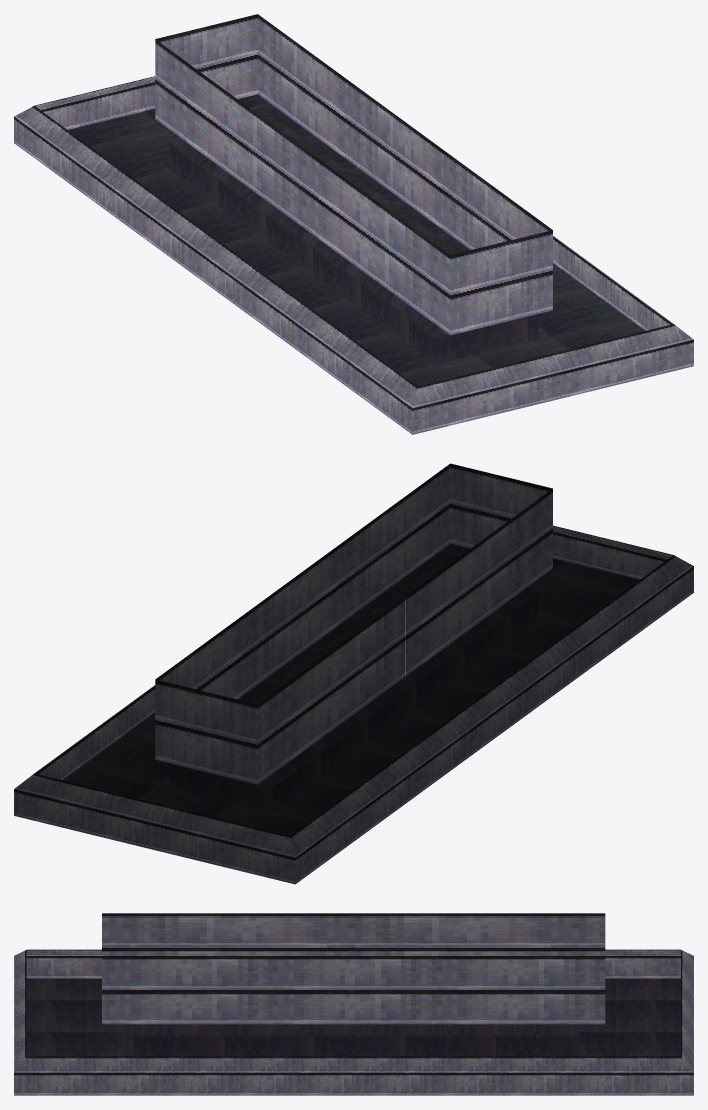
The model's file is Pdoor_azt_deskZ.obj.
3 views of the same model, one above another, from view 1: azimuth 30°, elevation 25°; view 2: azimuth 150°, elevation 25°; view 3: azimuth 270°, elevation 25° (orthographic). The views are drawn at different scales.
Size of the model in its own units: 642 by 262 by 1575.
Materials: 3 (3 with a texture image).
